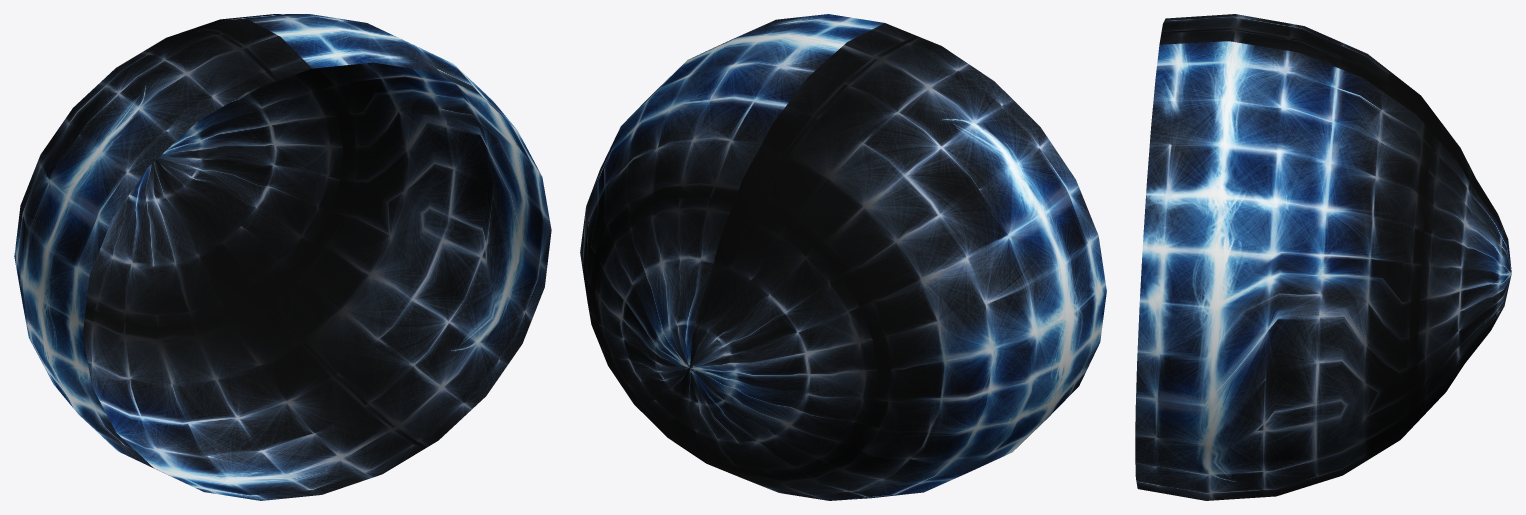
File: FutureFaceEye.fbx
3 views of the same model, side by side, from view 1: azimuth 30°, elevation 25°; view 2: azimuth 150°, elevation 25°; view 3: azimuth 270°, elevation 25° (orthographic).
Visible parts, largest first — view 1: challenger_eyes_refl; view 2: challenger_eyes_refl; view 3: challenger_eyes_refl.
Part boxes in pixels (box(x1,y1,x2,y2)): challenger_eyes_refl: box(14, 14, 551, 500); challenger_eyes_refl: box(580, 14, 1106, 500); challenger_eyes_refl: box(1135, 14, 1511, 500).
Size of the model in its own units: 1.04 by 0.9174 by 0.7251.
1 material, 1 textured.
